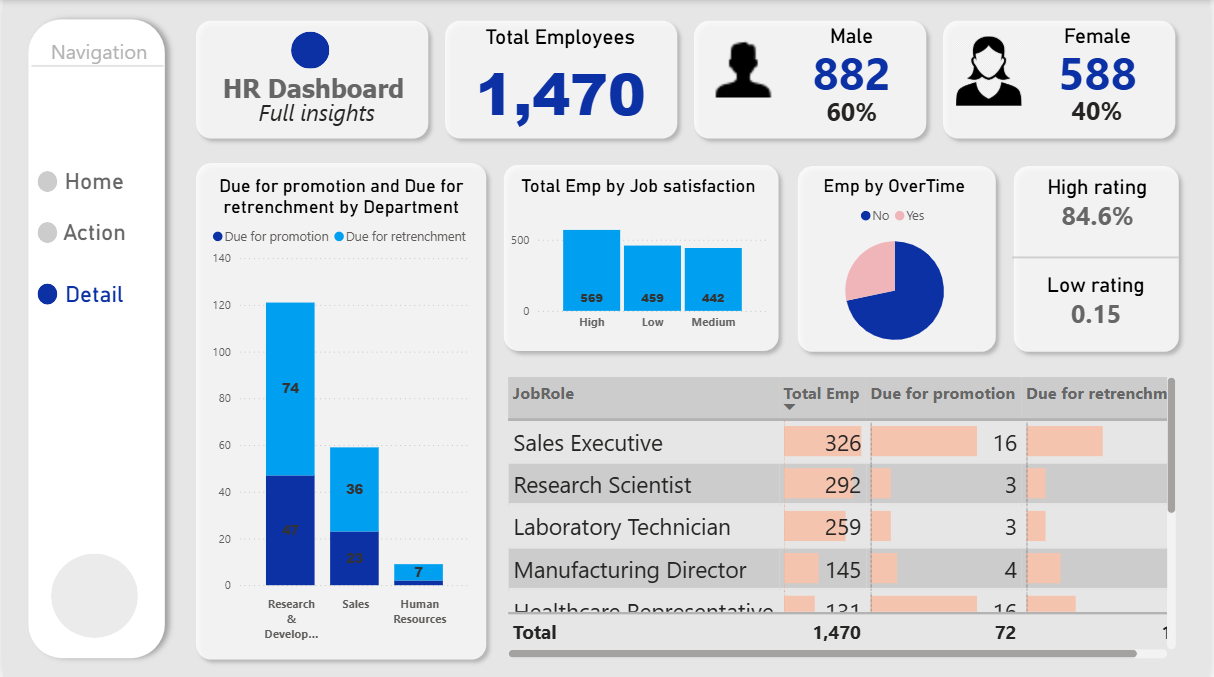

The dashboard page shown, as its layout file describes it:
{"tool":"powerbi","page":{"name":"Details","canvas":[1280,720],"ordinal":1},"visuals":[{"type":"shape","box":[16.5,9.6,166.5,699.2],"z":0},{"type":"shape","box":[195.4,12.4,264.3,143.1],"z":1000},{"type":"shape","box":[459.7,12.4,264.3,143.1],"z":2000},{"type":"shape","box":[724,12.4,264.3,143.1],"z":3000},{"type":"shape","box":[988.2,12.4,264.3,143.1],"z":4000},{"type":"shape","box":[195.2,164.4,325.9,544.6],"z":5000},{"type":"shape","box":[521.1,165.9,309.7,215.8],"z":6000},{"type":"shape","box":[833.6,166.7,228.3,215],"z":7000},{"type":"shape","box":[1063.1,166.7,193.3,215],"z":8000},{"type":"textbox","box":[209.7,71.2,238.7,51.4],"z":9000},{"type":"textbox","box":[36.9,33,130.5,51.4],"z":10000},{"type":"textbox","box":[209.7,97.6,251.9,55.4],"z":11000},{"type":"shape","box":[305.9,33,40.9,39.6],"z":12000},{"type":"card","title":"Total Employees","fields":{"Values":["All Measures.Total Emp"]},"box":[468,27.5,246.4,112.9],"z":13000},{"type":"card","title":"Male","fields":{"Values":["All Measures.Male"]},"box":[814.8,26.2,170.7,75.7],"z":14000},{"type":"card","fields":{"Values":["All Measures.Male %"]},"box":[834.1,90.8,132.1,55.1],"z":15000},{"type":"card","title":"Female","fields":{"Values":["All Measures.Female"]},"box":[1068.7,26.2,183.1,75.7],"z":16000},{"type":"card","fields":{"Values":["All Measures.Female %"]},"box":[1083.9,90.8,152.8,53.7],"z":17000},{"type":"image","box":[736.3,26.2,95,90.8],"z":18000},{"type":"image","box":[1004.7,33,79.8,84],"z":19000},{"type":"columnChart","fields":{"Category":["HR Analytics Data.Department"],"Y":["All Measures.Due for promotion","All Measures.Due for retirment"]},"box":[216.3,185.9,284.8,501.1],"z":20000},{"type":"tableEx","fields":{"Values":["HR Analytics Data.JobRole","All Measures.Total Emp","All Measures.Due for promotion","All Measures.Due for retirment"]},"box":[529.5,393.8,718.8,308.1],"z":21000},{"type":"columnChart","fields":{"Category":["HR Analytics Data.Job satisfaction"],"Y":["All Measures.Total Emp"]},"box":[532.8,186.4,281.8,173.2],"z":22000},{"type":"pieChart","title":"Emp by OverTime","fields":{"Category":["HR Analytics Data.OverTime"],"Y":["All Measures.Total Emp"]},"box":[820.3,186,248.9,192.1],"z":23000},{"type":"card","title":"High rating","fields":{"Values":["All Measures.% High emp rating"]},"box":[1066.7,186,186,61.6],"z":24000},{"type":"card","title":"Low rating","fields":{"Values":["All Measures.% Low emp rating"]},"box":[1065.5,289.9,186,61.6],"z":25000},{"type":"shape","box":[1070.1,265.7,176.1,14.7],"z":26000},{"type":"shape","box":[36.9,300.7,21.1,22.4],"z":27000},{"type":"actionButton","title":"Detail","box":[27.7,298,139.8,39.6],"z":28000},{"type":"shape","box":[36.9,236,21.1,22.4],"z":29000},{"type":"actionButton","title":"Action","box":[27.7,232.1,139.8,58],"z":30000},{"type":"shape","box":[36.9,180.7,21.1,22.4],"z":31000},{"type":"actionButton","title":"Home","box":[27.7,178,139.8,54.1],"z":32000},{"type":"shape","box":[51.4,586.8,92.3,89.7],"z":33000},{"type":"shape","box":[30.2,61.6,140.1,15.7],"z":34000}]}

Visuals, with their boxes in screenshot pixels (x1, y1, x2, y2), scaled from the page's 1280x720 canvas onto the 1214x677 screenshot:
shape: <region>16, 9, 174, 666</region>
shape: <region>185, 12, 436, 146</region>
shape: <region>436, 12, 687, 146</region>
shape: <region>687, 12, 937, 146</region>
shape: <region>937, 12, 1188, 146</region>
shape: <region>185, 155, 494, 667</region>
shape: <region>494, 156, 788, 359</region>
shape: <region>791, 157, 1007, 359</region>
shape: <region>1008, 157, 1192, 359</region>
textbox: <region>199, 67, 425, 115</region>
textbox: <region>35, 31, 159, 79</region>
textbox: <region>199, 92, 438, 144</region>
shape: <region>290, 31, 329, 68</region>
"Total Employees" card: <region>444, 26, 678, 132</region>
"Male" card: <region>773, 25, 935, 96</region>
card - All Measures.Male %: <region>791, 85, 916, 137</region>
"Female" card: <region>1014, 25, 1187, 96</region>
card - All Measures.Female %: <region>1028, 85, 1173, 136</region>
image: <region>698, 25, 788, 110</region>
image: <region>953, 31, 1029, 110</region>
columnChart - HR Analytics Data.Department x All Measures.Due for promotion: <region>205, 175, 475, 646</region>
tableEx - HR Analytics Data.JobRole x All Measures.Total Emp: <region>502, 370, 1184, 660</region>
columnChart - HR Analytics Data.Job satisfaction x All Measures.Total Emp: <region>505, 175, 773, 338</region>
"Emp by OverTime" pieChart: <region>778, 175, 1014, 356</region>
"High rating" card: <region>1012, 175, 1188, 233</region>
"Low rating" card: <region>1011, 273, 1187, 331</region>
shape: <region>1015, 250, 1182, 264</region>
shape: <region>35, 283, 55, 304</region>
"Detail" actionButton: <region>26, 280, 159, 317</region>
shape: <region>35, 222, 55, 243</region>
"Action" actionButton: <region>26, 218, 159, 273</region>
shape: <region>35, 170, 55, 191</region>
"Home" actionButton: <region>26, 167, 159, 218</region>
shape: <region>49, 552, 136, 636</region>
shape: <region>29, 58, 162, 73</region>
